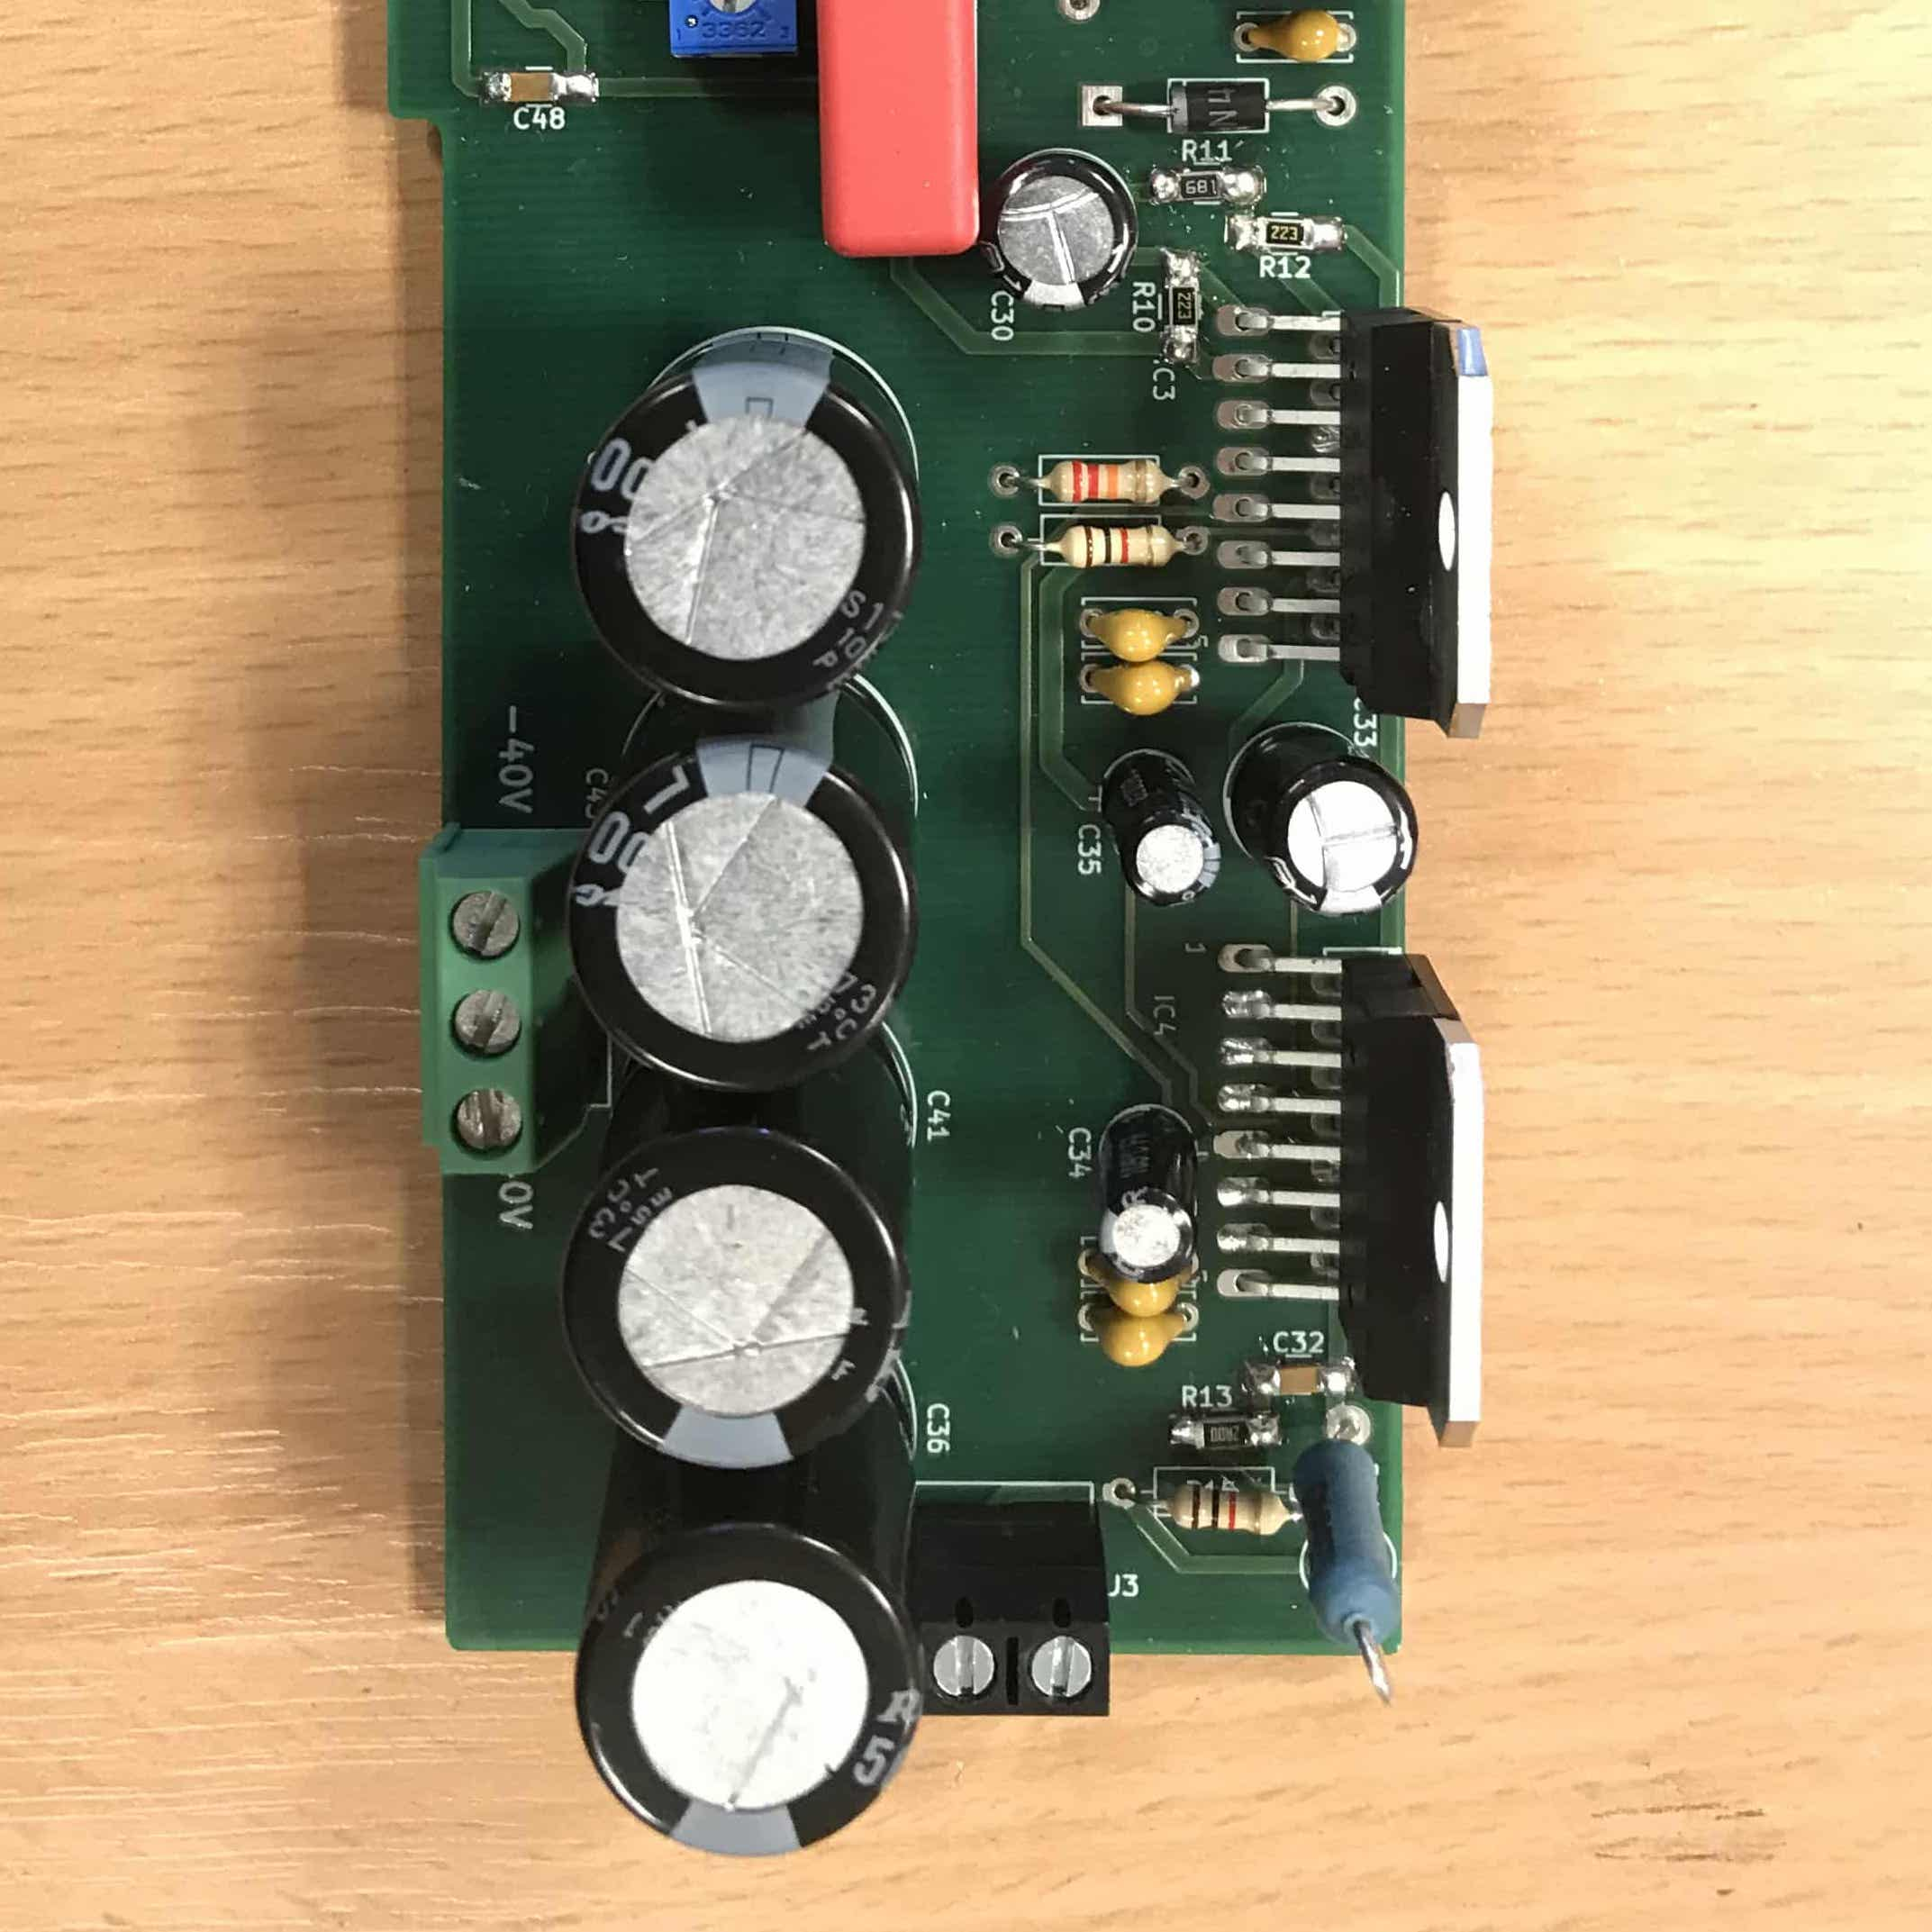Capacitor: (568, 1364, 924, 1872), (559, 1021, 920, 1474), (564, 672, 922, 1095), (564, 322, 929, 720), (1223, 722, 1424, 920), (975, 149, 1146, 313), (1095, 747, 1226, 915), (1086, 1109, 1205, 1290)
Diode: (1159, 74, 1277, 134)
Resistor: (1148, 1476, 1293, 1541), (1042, 513, 1187, 577), (1031, 448, 1175, 508)
